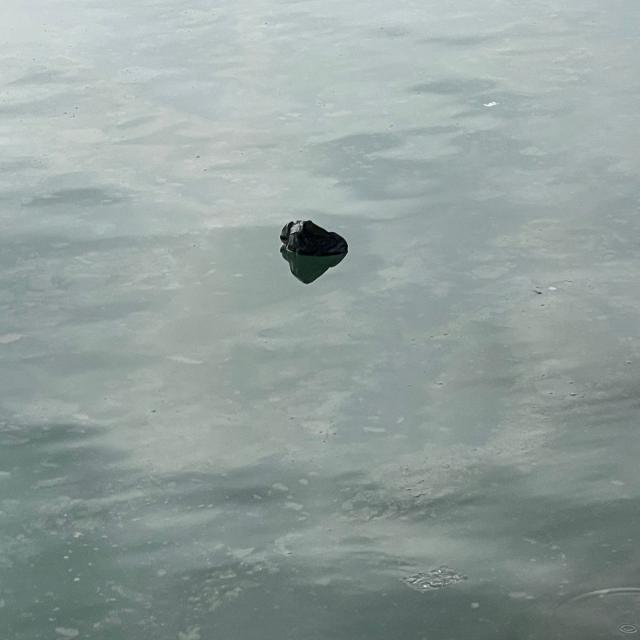Kantong Plastik: (278, 212, 354, 270)
